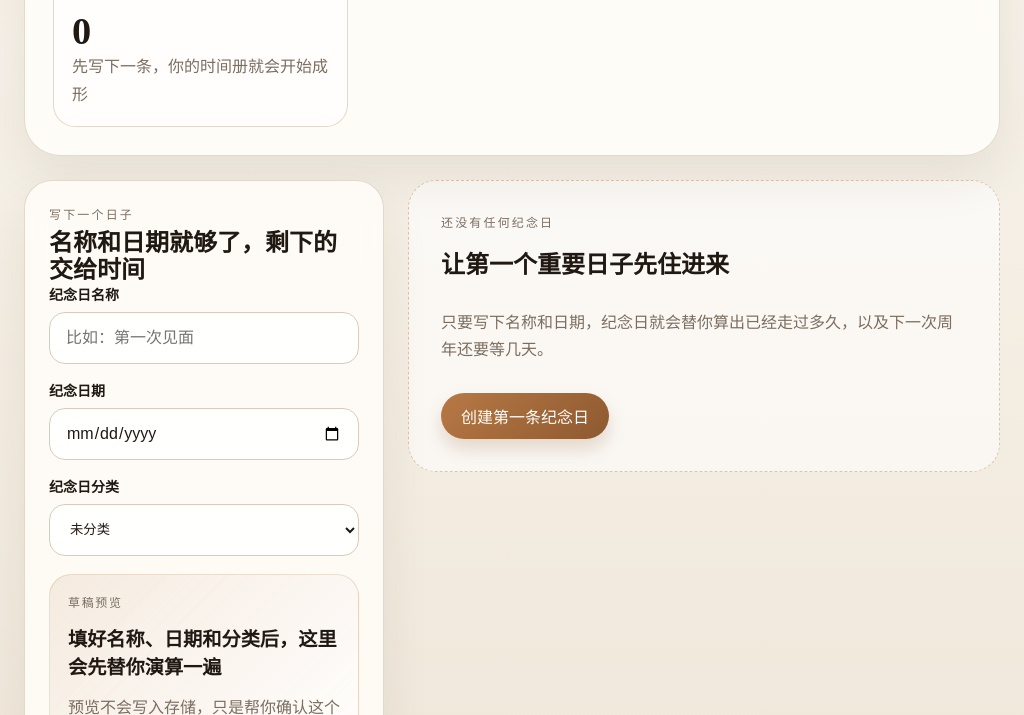
Test case: AnniversaryForm › 选择分类后提交成功并显示分类标签
The width and height of the screenshot is (1024, 715).
(page scrolled)
Type "第一次旅行" into the field labelled "纪念日名称" at (204, 338), box [49,312,359,364]
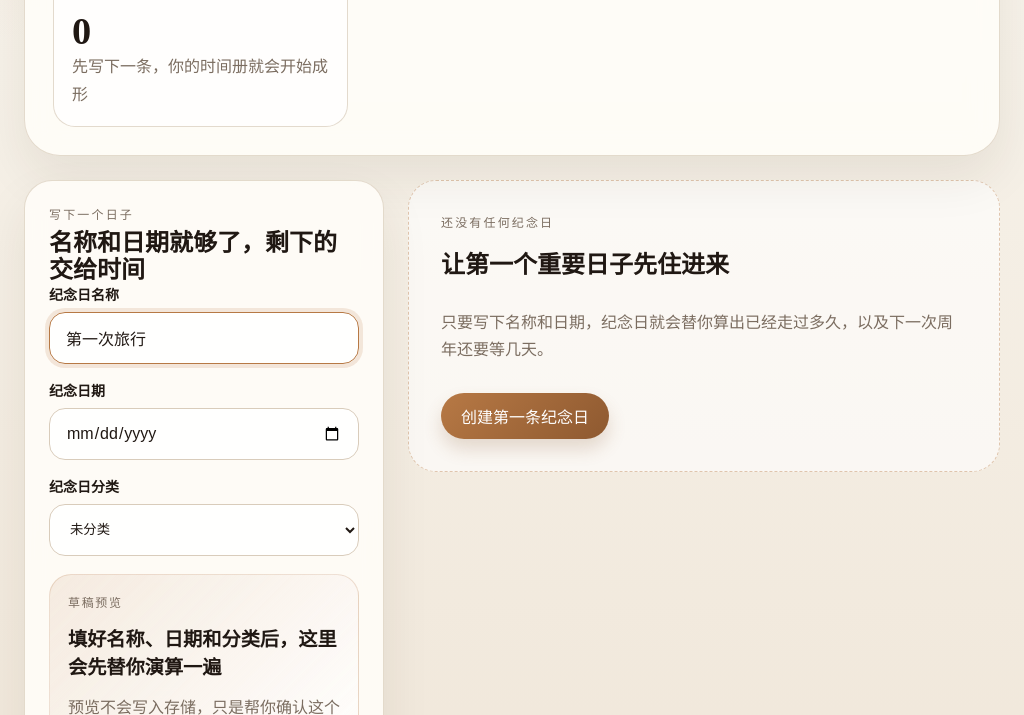
Type "2020-03-27" into the date field labelled "纪念日期" at (204, 434), box [49,408,359,460]
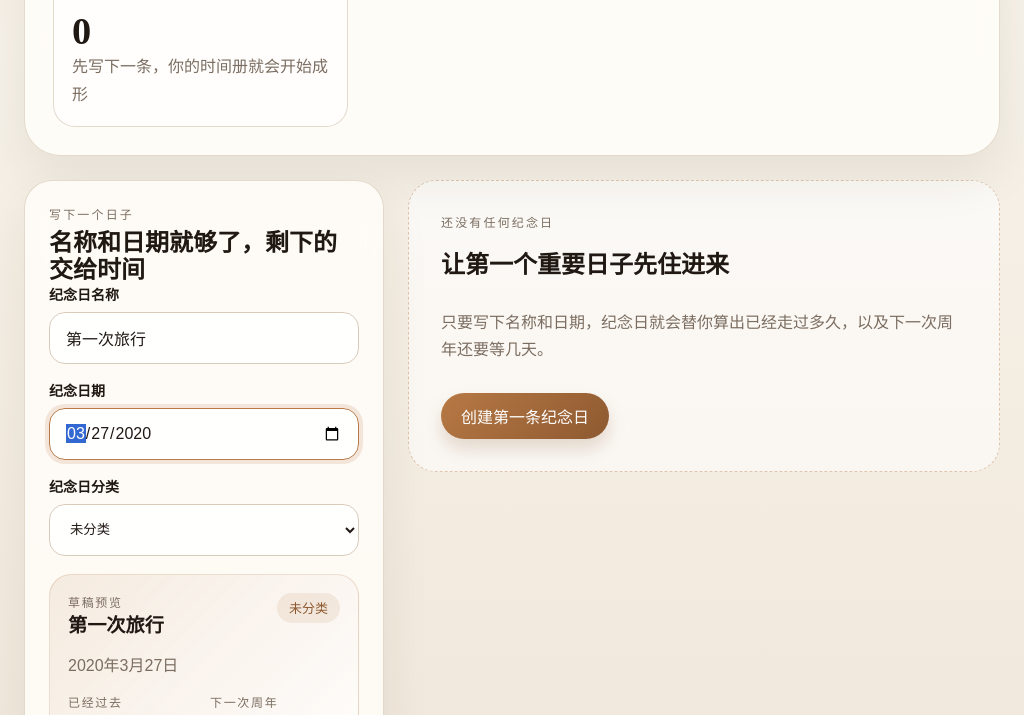
Select "关系" in the dropdown labelled "纪念日分类" at (204, 530), box [49,504,359,556]
(page scrolled)
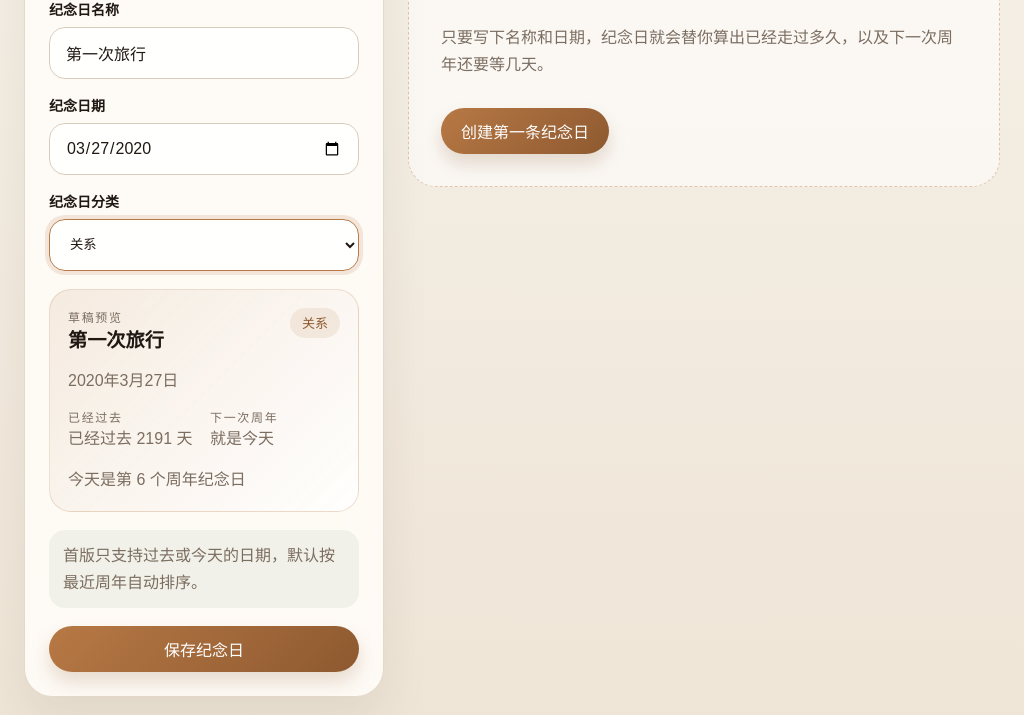
Click the button "保存纪念日" at (204, 650), box [49,626,359,672]
(page scrolled)
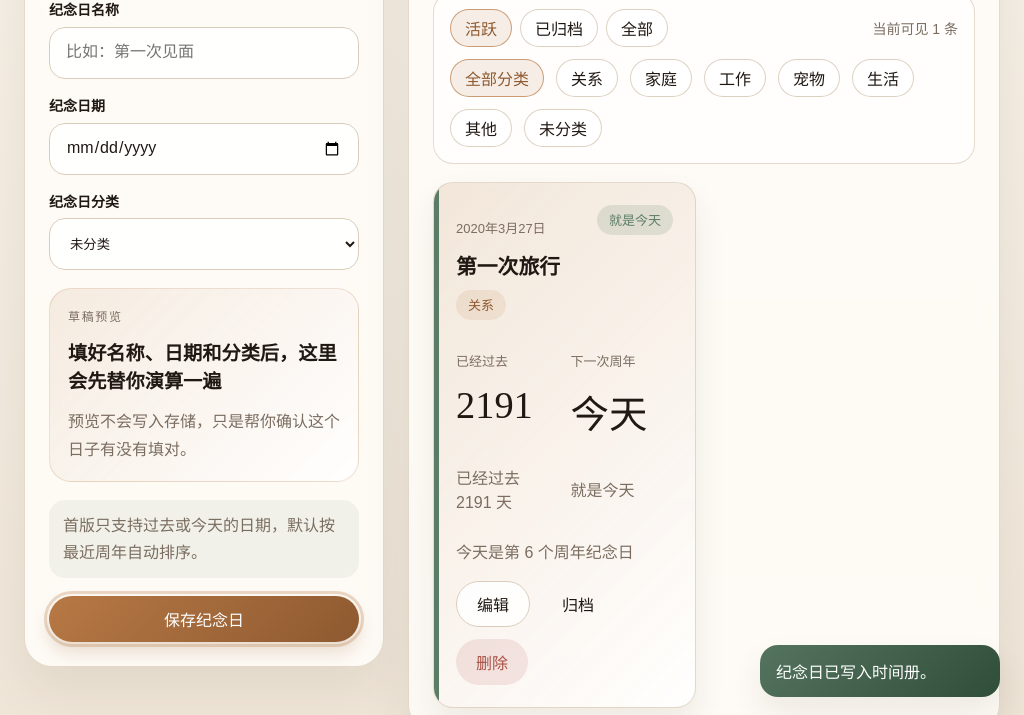
Result: the heading "第一次旅行" is shown at [456,250,560,280]
